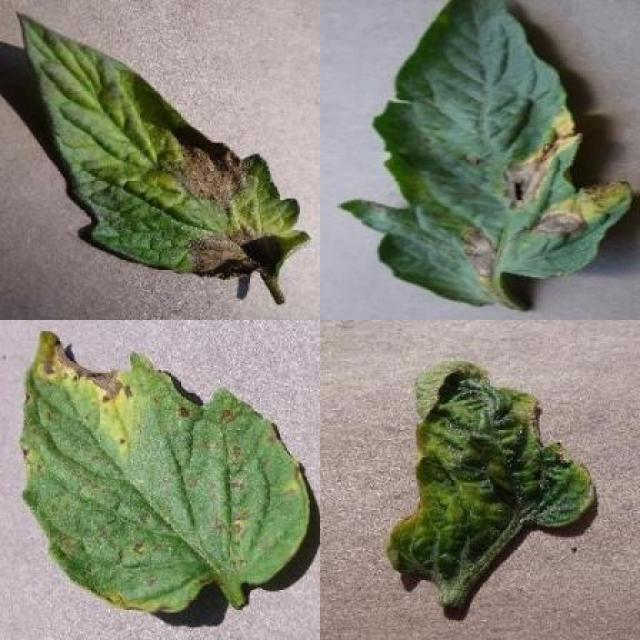Early Blight: (342, 1, 628, 306)
Late Blight: (13, 8, 310, 282)
Septoria: (23, 329, 310, 614)
Yellow Leaf Curl Virus: (385, 363, 595, 584)
